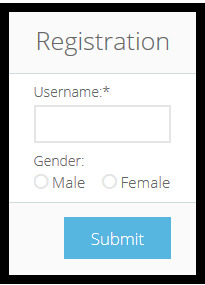_form_: (1, 1, 205, 285)
button: (61, 215, 173, 260)
field: (33, 103, 172, 144)
field_with_label: (31, 86, 174, 146)
radio: (33, 172, 49, 190), (101, 172, 117, 190)
radio_with_label: (99, 170, 171, 191), (32, 170, 85, 191)
